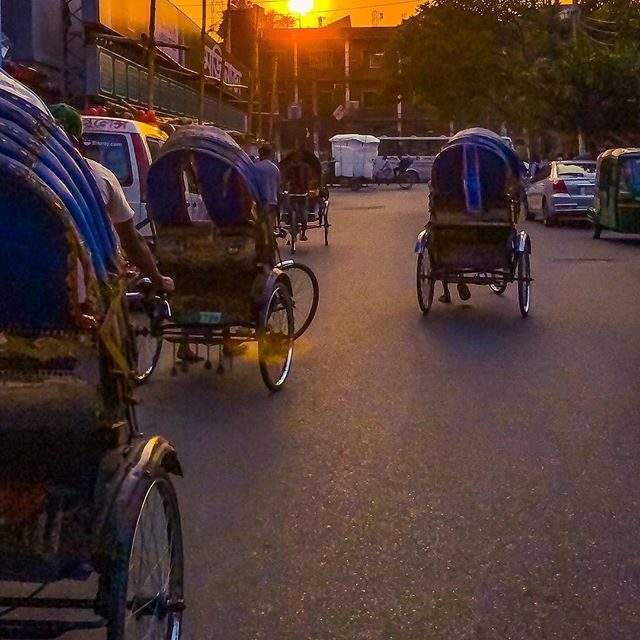Rickshaw: (4, 62, 181, 637), (152, 115, 312, 402), (418, 131, 540, 320), (267, 149, 334, 247)
